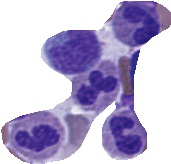objectness: (70, 63, 120, 113), (100, 110, 150, 160), (12, 112, 62, 162), (43, 28, 93, 78), (111, 0, 161, 47)
